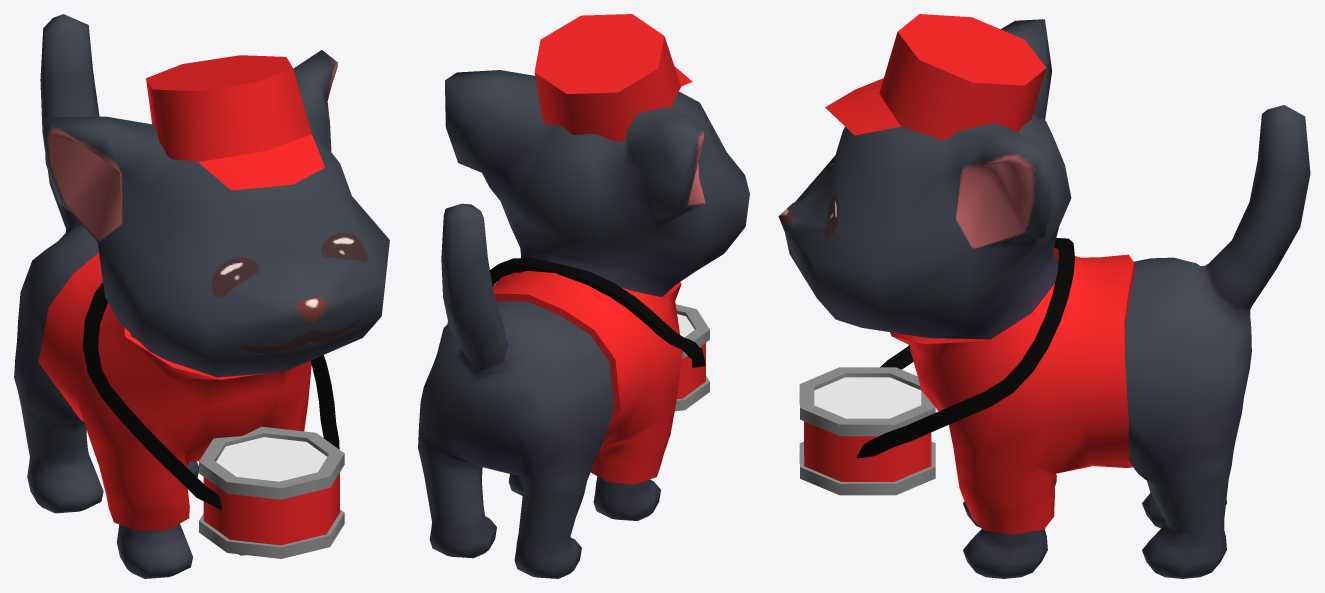
Rendered from Band Cat03.fbx.
The picture shows the model from 3 angles, left to right: view 1: azimuth 30°, elevation 25°; view 2: azimuth 150°, elevation 25°; view 3: azimuth 270°, elevation 25°; orthographic projection. The views are drawn at different scales.
Parts seen in each view (by area): view 1: Cat_Base002, Band_Cat_Uniform, Band_Cat_Drums, Band_Cat_Hat; view 2: Cat_Base002, Band_Cat_Uniform, Band_Cat_Hat, Band_Cat_Drums; view 3: Cat_Base002, Band_Cat_Uniform, Band_Cat_Drums, Band_Cat_Hat.
Boxes of the visible parts, x1,y1,x2,y2 form: Cat_Base002: [14, 14, 389, 578]; Band_Cat_Uniform: [38, 252, 311, 531]; Band_Cat_Drums: [82, 282, 344, 558]; Band_Cat_Hat: [146, 55, 324, 190]; Cat_Base002: [418, 70, 749, 578]; Band_Cat_Uniform: [447, 271, 682, 484]; Band_Cat_Hat: [534, 14, 692, 141]; Band_Cat_Drums: [490, 258, 709, 411]; Cat_Base002: [778, 19, 1310, 578]; Band_Cat_Uniform: [890, 247, 1134, 534]; Band_Cat_Drums: [799, 238, 1074, 495]; Band_Cat_Hat: [825, 14, 1046, 139].
Bounding box in the file's own units: 1.75 × 2.83 × 3.01.
Materials: 5 (1 with a texture image).
